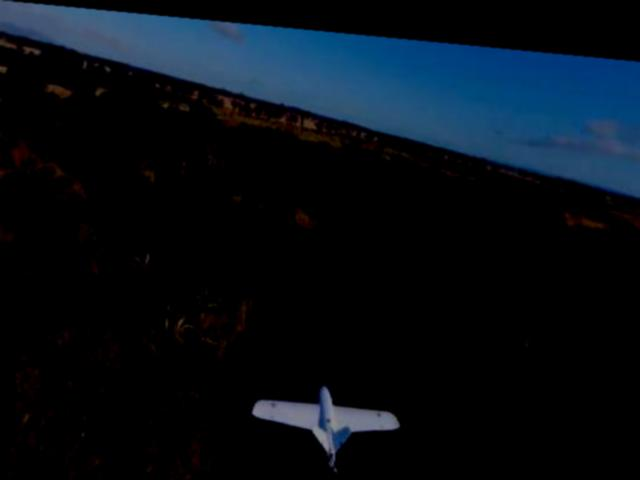uav: (247, 373, 405, 473)
